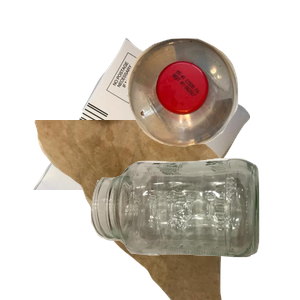glass: (88, 156, 300, 300)
paper: (31, 35, 271, 215)
plastic: (124, 36, 300, 175)
trash: (32, 120, 248, 300)
